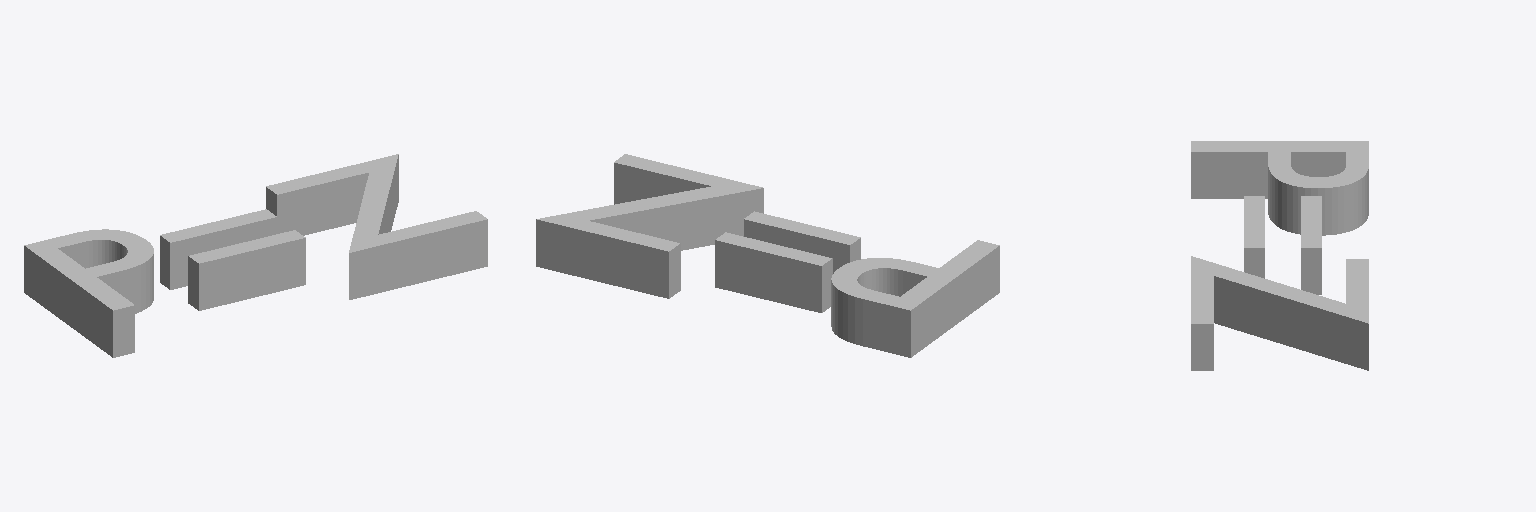
File: Rebus_2_Text_4.obj
3 renders of one model, left to right at view 1: azimuth 30°, elevation 25°; view 2: azimuth 150°, elevation 25°; view 3: azimuth 270°, elevation 25°, orthographic.
Visible parts, largest first — view 1: Text.003; view 2: Text.003; view 3: Text.003.
Part boxes in pixels (bbox=[...]): Text.003: bbox=[24, 154, 487, 357]; Text.003: bbox=[536, 154, 999, 357]; Text.003: bbox=[1191, 141, 1368, 370].
Bounding box in the file's own units: 1.66 × 0.2 × 0.682.